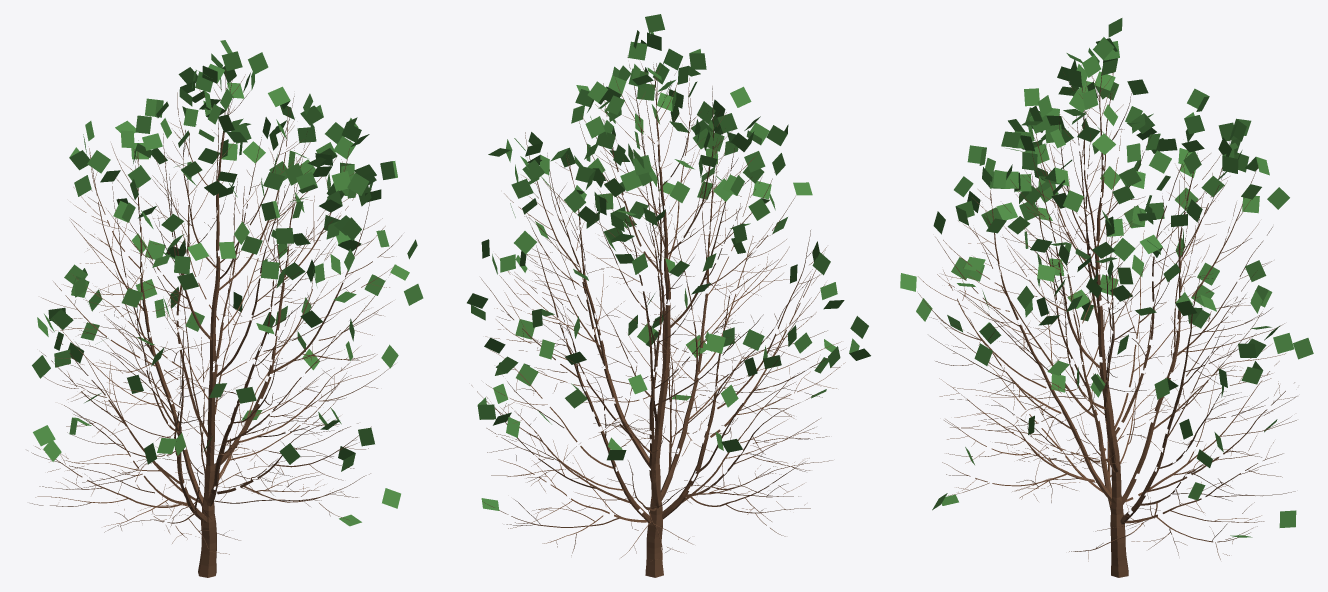
Rendered from red-maple.glb.
3 views of the same model, side by side, from view 1: azimuth 30°, elevation 25°; view 2: azimuth 150°, elevation 25°; view 3: azimuth 270°, elevation 25° (orthographic).
Visible parts, largest first — view 1: foliage, trunk; view 2: foliage, trunk; view 3: foliage, trunk.
Boxes of the visible parts, x1,y1,x2,y2 form: foliage: (32, 40, 423, 526); trunk: (27, 69, 401, 577); foliage: (467, 14, 870, 510); trunk: (471, 57, 845, 577); foliage: (900, 18, 1313, 537); trunk: (918, 65, 1297, 577).
Bounding box in the file's own units: 4.31 × 6 × 4.01.
